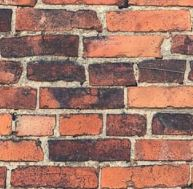brick: (1, 32, 81, 59), (15, 7, 103, 31), (82, 33, 163, 58), (38, 86, 125, 109), (12, 165, 99, 188), (102, 167, 191, 189), (47, 139, 132, 162), (106, 9, 193, 30), (26, 59, 87, 84), (127, 86, 193, 108), (134, 138, 193, 162), (85, 63, 137, 87), (138, 60, 186, 83), (58, 113, 103, 136), (105, 113, 149, 136), (151, 112, 193, 135), (1, 138, 42, 160), (15, 113, 55, 135), (1, 85, 37, 109)
